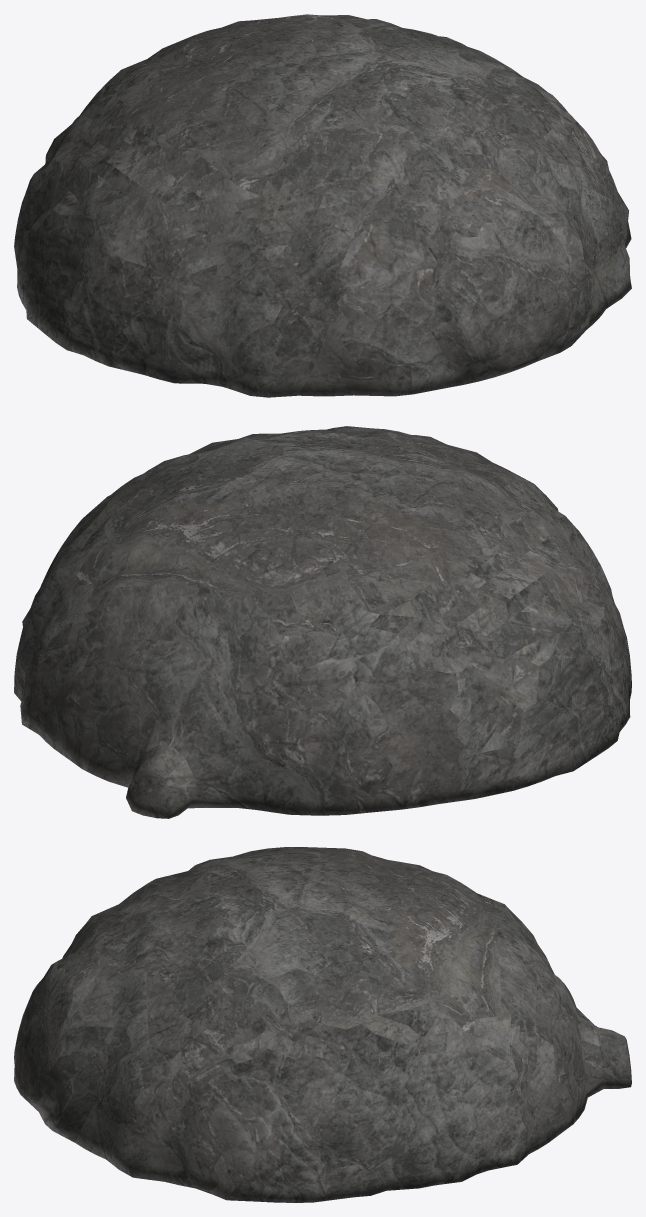
Rendered from Boss_Room_test.fbx.
3 views of the same model, one above another, from view 1: azimuth 30°, elevation 25°; view 2: azimuth 150°, elevation 25°; view 3: azimuth 270°, elevation 25° (orthographic). The views are drawn at different scales.
Parts seen in each view (by area): view 1: Icosphere; view 2: Icosphere; view 3: Icosphere.
Part boxes in pixels (box(x1,y1,x2,y2)): Icosphere: box(14, 14, 631, 397); Icosphere: box(14, 426, 631, 818); Icosphere: box(14, 847, 631, 1202).
Bounding box in the file's own units: 1847 × 701 × 1974.
